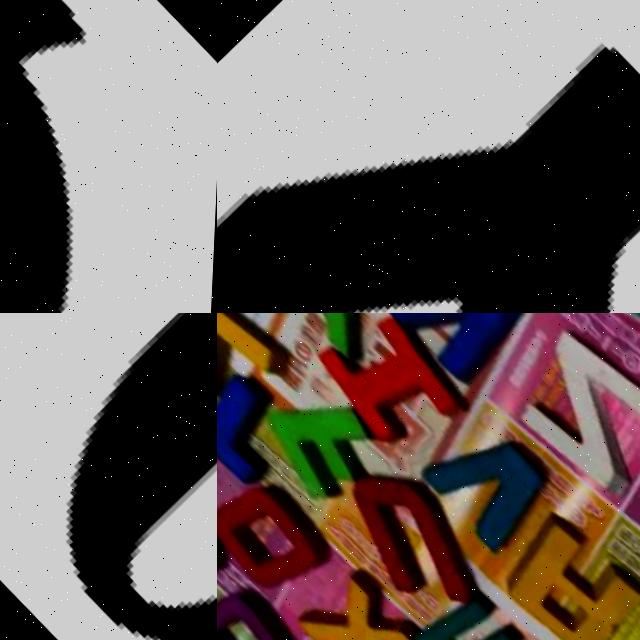F: (257, 371, 396, 510)
G: (0, 313, 217, 640), (217, 565, 320, 640)
I: (308, 313, 472, 457)
L: (217, 313, 299, 427)
M: (409, 572, 561, 640)
N: (366, 313, 538, 387)
O: (217, 465, 348, 612)
Q: (0, 0, 217, 313)
R: (488, 497, 640, 640)
S: (217, 452, 252, 612)
T: (217, 348, 303, 495)
U: (310, 435, 508, 631)
V: (414, 399, 568, 554)
X: (300, 568, 436, 640)
Y: (217, 0, 640, 313), (273, 313, 423, 367)
Z: (495, 313, 640, 510)
